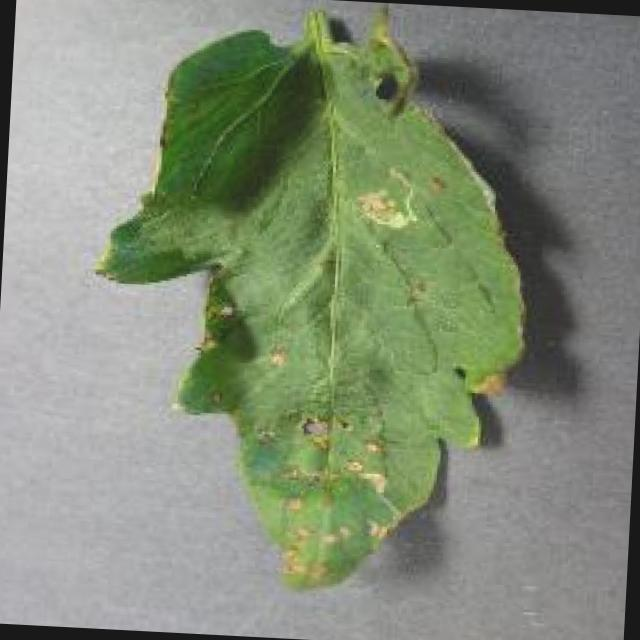bacterial spot: (96, 2, 528, 595)
